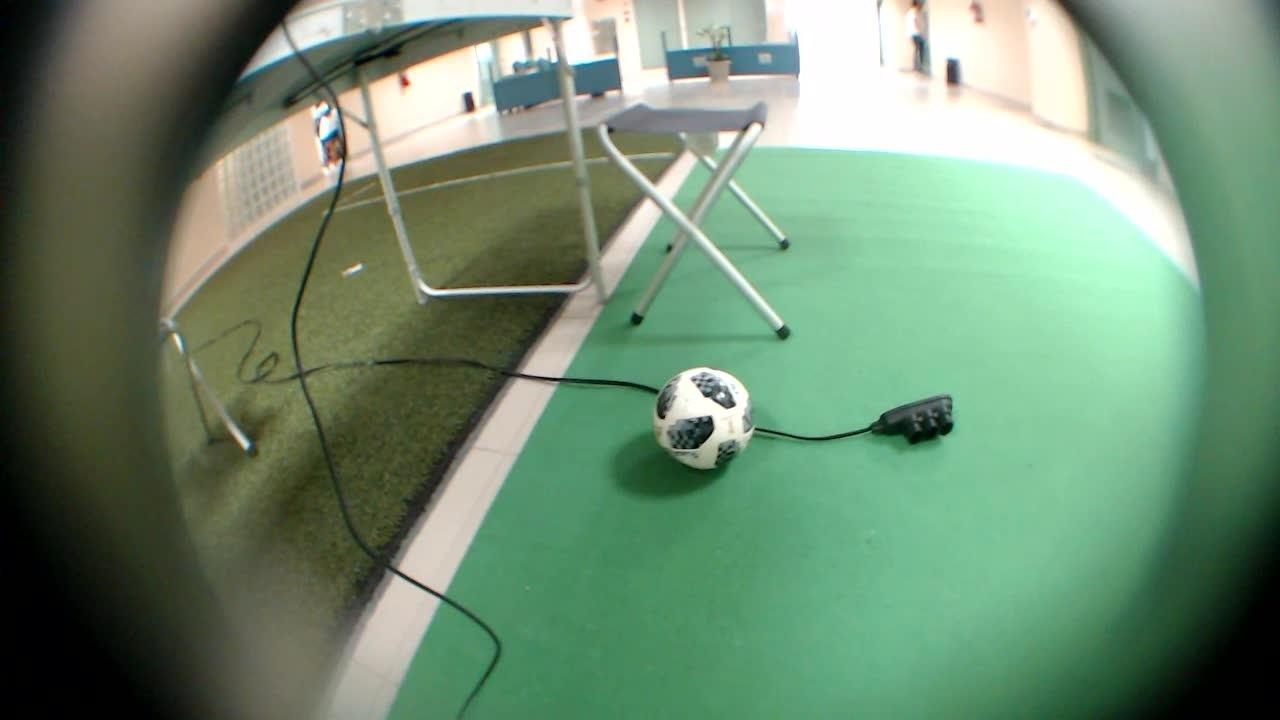ball: (644, 338, 767, 487)
